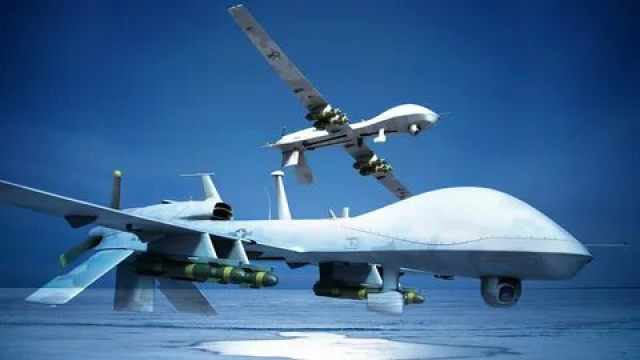military drone: (0, 169, 630, 315), (226, 3, 450, 199)
